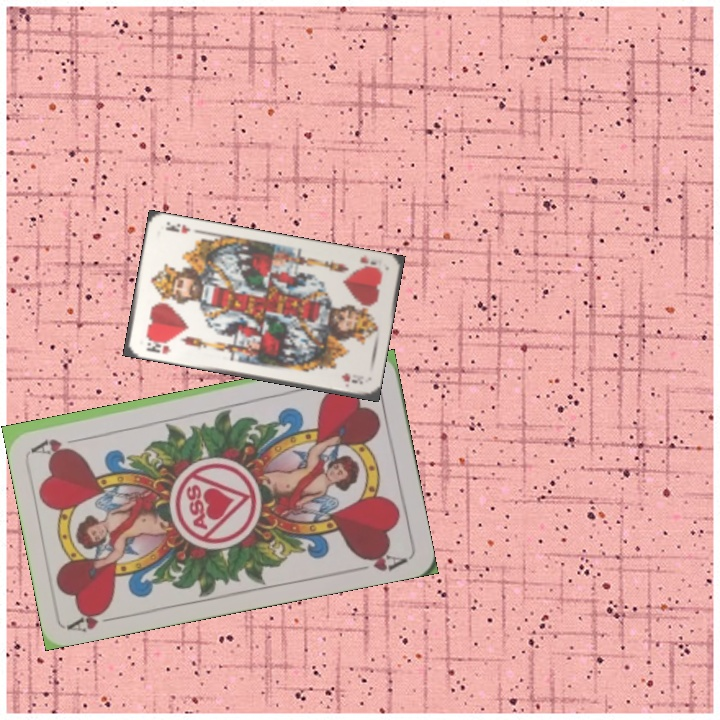HA: (66, 602, 125, 635)
HK: (356, 252, 385, 275), (142, 336, 174, 356)
